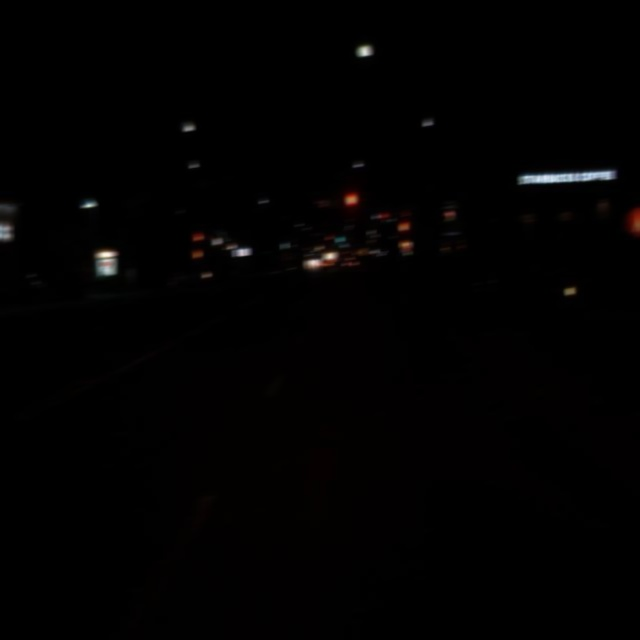go: (338, 232, 342, 242)
go traffic light: (338, 232, 342, 242)
stop: (346, 190, 358, 220), (400, 221, 408, 242), (328, 236, 331, 243)
stop left: (196, 232, 200, 248), (316, 200, 320, 207), (328, 236, 331, 243)
stop left traffic light: (196, 232, 200, 248), (316, 200, 320, 207), (328, 236, 331, 243)
stop traffic light: (346, 190, 358, 220), (400, 221, 408, 242), (328, 236, 331, 243)
